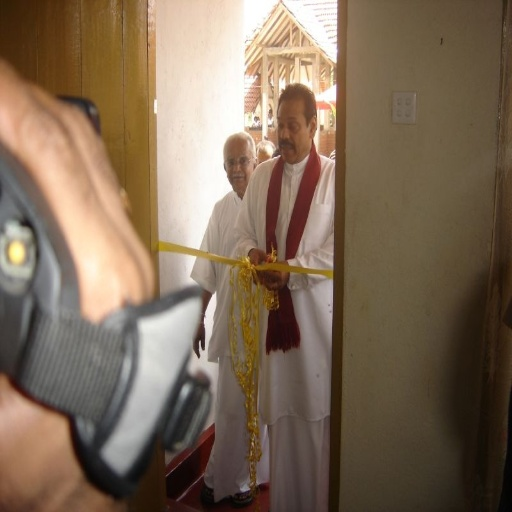hand: (0, 53, 156, 510), (258, 261, 288, 292), (248, 248, 267, 279), (190, 320, 205, 356)
